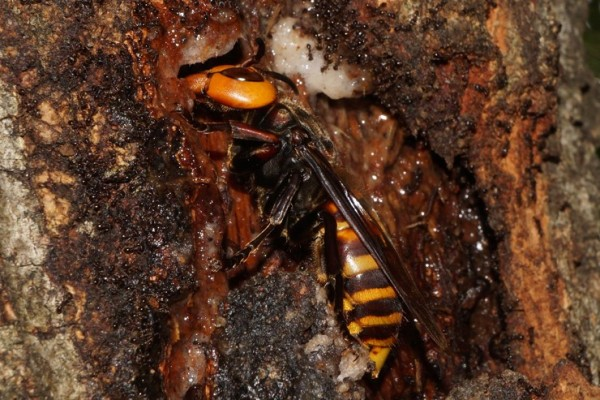asian_giant_hornet: (166, 28, 464, 380)
